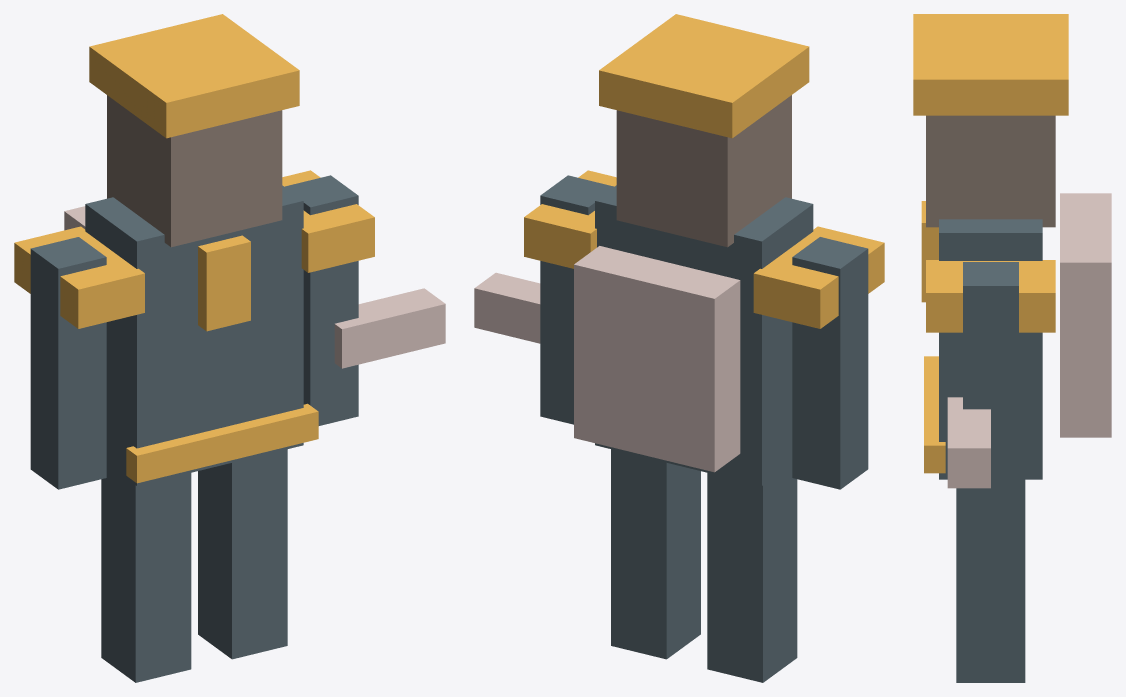
The model's file is 10_korra_trenchmark_cartographer_from_recovery.glb.
3 renders of one model, left to right at view 1: azimuth 30°, elevation 25°; view 2: azimuth 150°, elevation 25°; view 3: azimuth 270°, elevation 25°, orthographic.
Visible parts, largest first — view 1: Korra Trenchmark, Cartographer from Recovery; view 2: Korra Trenchmark, Cartographer from Recovery; view 3: Korra Trenchmark, Cartographer from Recovery.
Part boxes in pixels (bbox=[...]): Korra Trenchmark, Cartographer from Recovery: bbox=[14, 14, 445, 682]; Korra Trenchmark, Cartographer from Recovery: bbox=[474, 14, 884, 682]; Korra Trenchmark, Cartographer from Recovery: bbox=[913, 14, 1111, 682].
Size of the model in its own units: 1.03 by 1.53 by 0.461.
